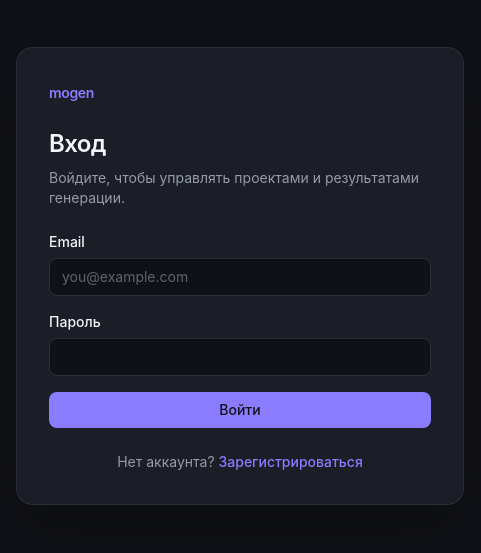
Scenario: LoginPage › shows the authentication error from the API
Type "user@example.com" into the field labelled "Email" at (240, 277), box [49,258,431,296]
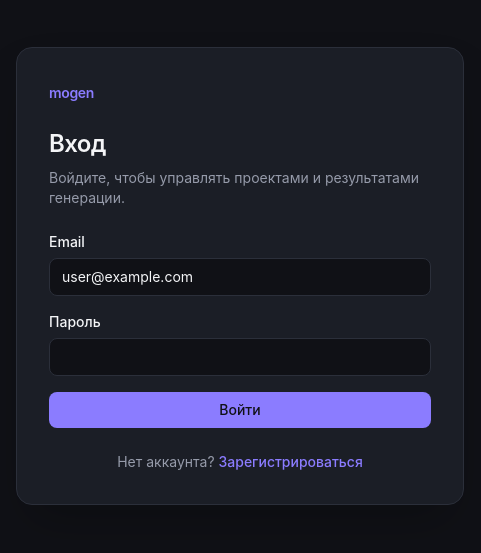
Type "password123" into the password field labelled "Пароль" at (240, 357), box [49,338,431,376]
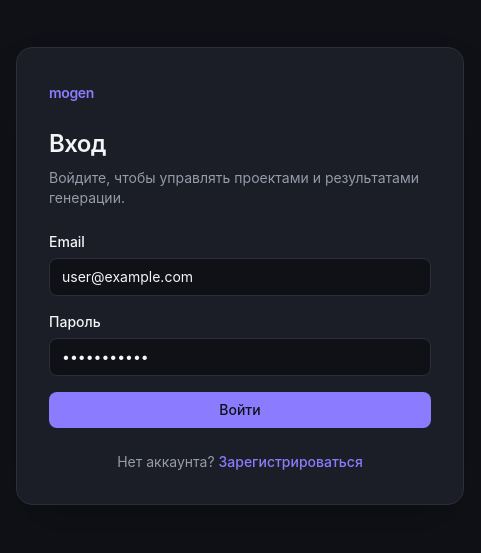
Click the button "Войти" at (240, 410), box [49,392,431,428]
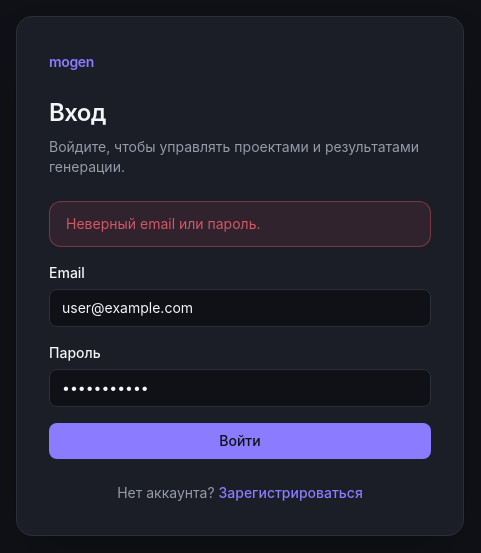
Expected: the text "Неверный email или пароль." is shown, [66,215,260,232]
